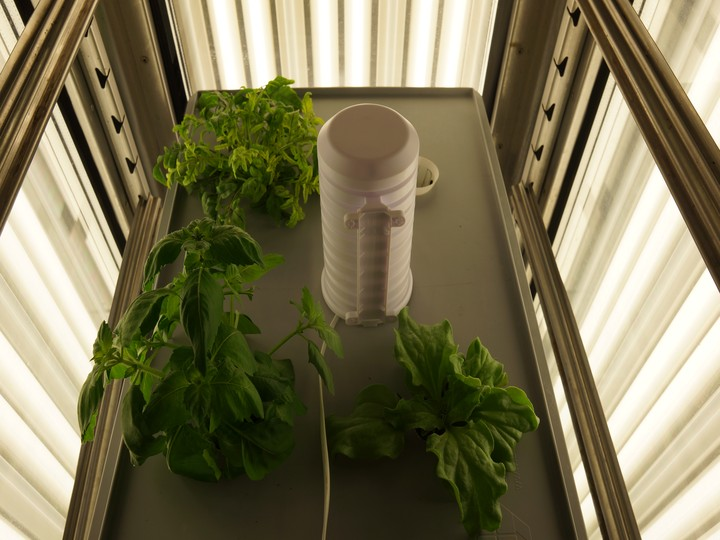basilic_blue_spice: (55, 218, 333, 502)
ficoide_glaciale: (328, 306, 546, 540)
roquette_sauvage_red_veined: (147, 78, 323, 235)
